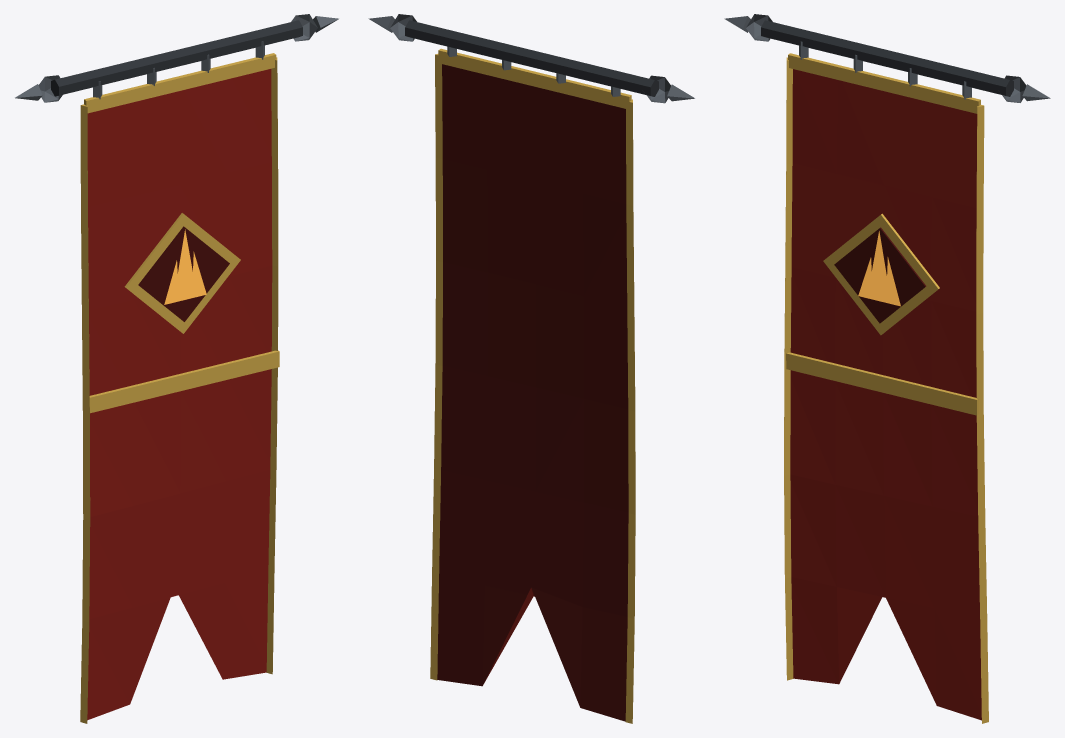
File: dk_banner.glb
The picture shows the model from 3 angles, left to right: view 1: azimuth 30°, elevation 25°; view 2: azimuth 150°, elevation 25°; view 3: azimuth 330°, elevation 25°; orthographic projection.
Visible parts, largest first — view 1: dk_banner; view 2: dk_banner; view 3: dk_banner.
Part boxes in pixels (x1,y1,x2,y2): dk_banner: (15,14,338,723); dk_banner: (368,14,694,723); dk_banner: (724,14,1050,723).
Bounding box in the file's own units: 4.8 × 9.17 × 0.3794.
2 materials, 2 textured.
